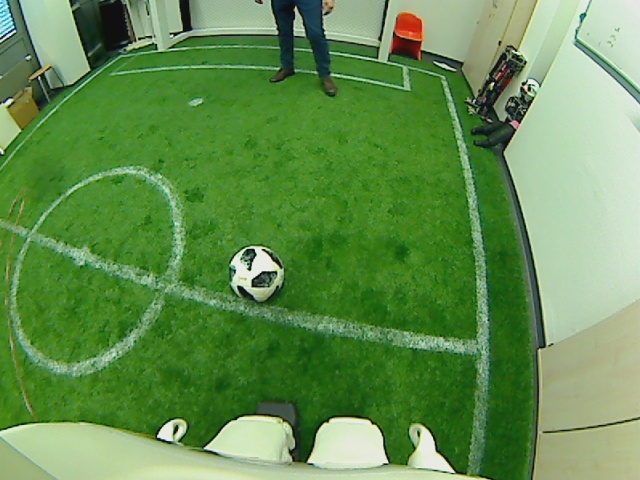ball: (226, 242, 287, 303)
